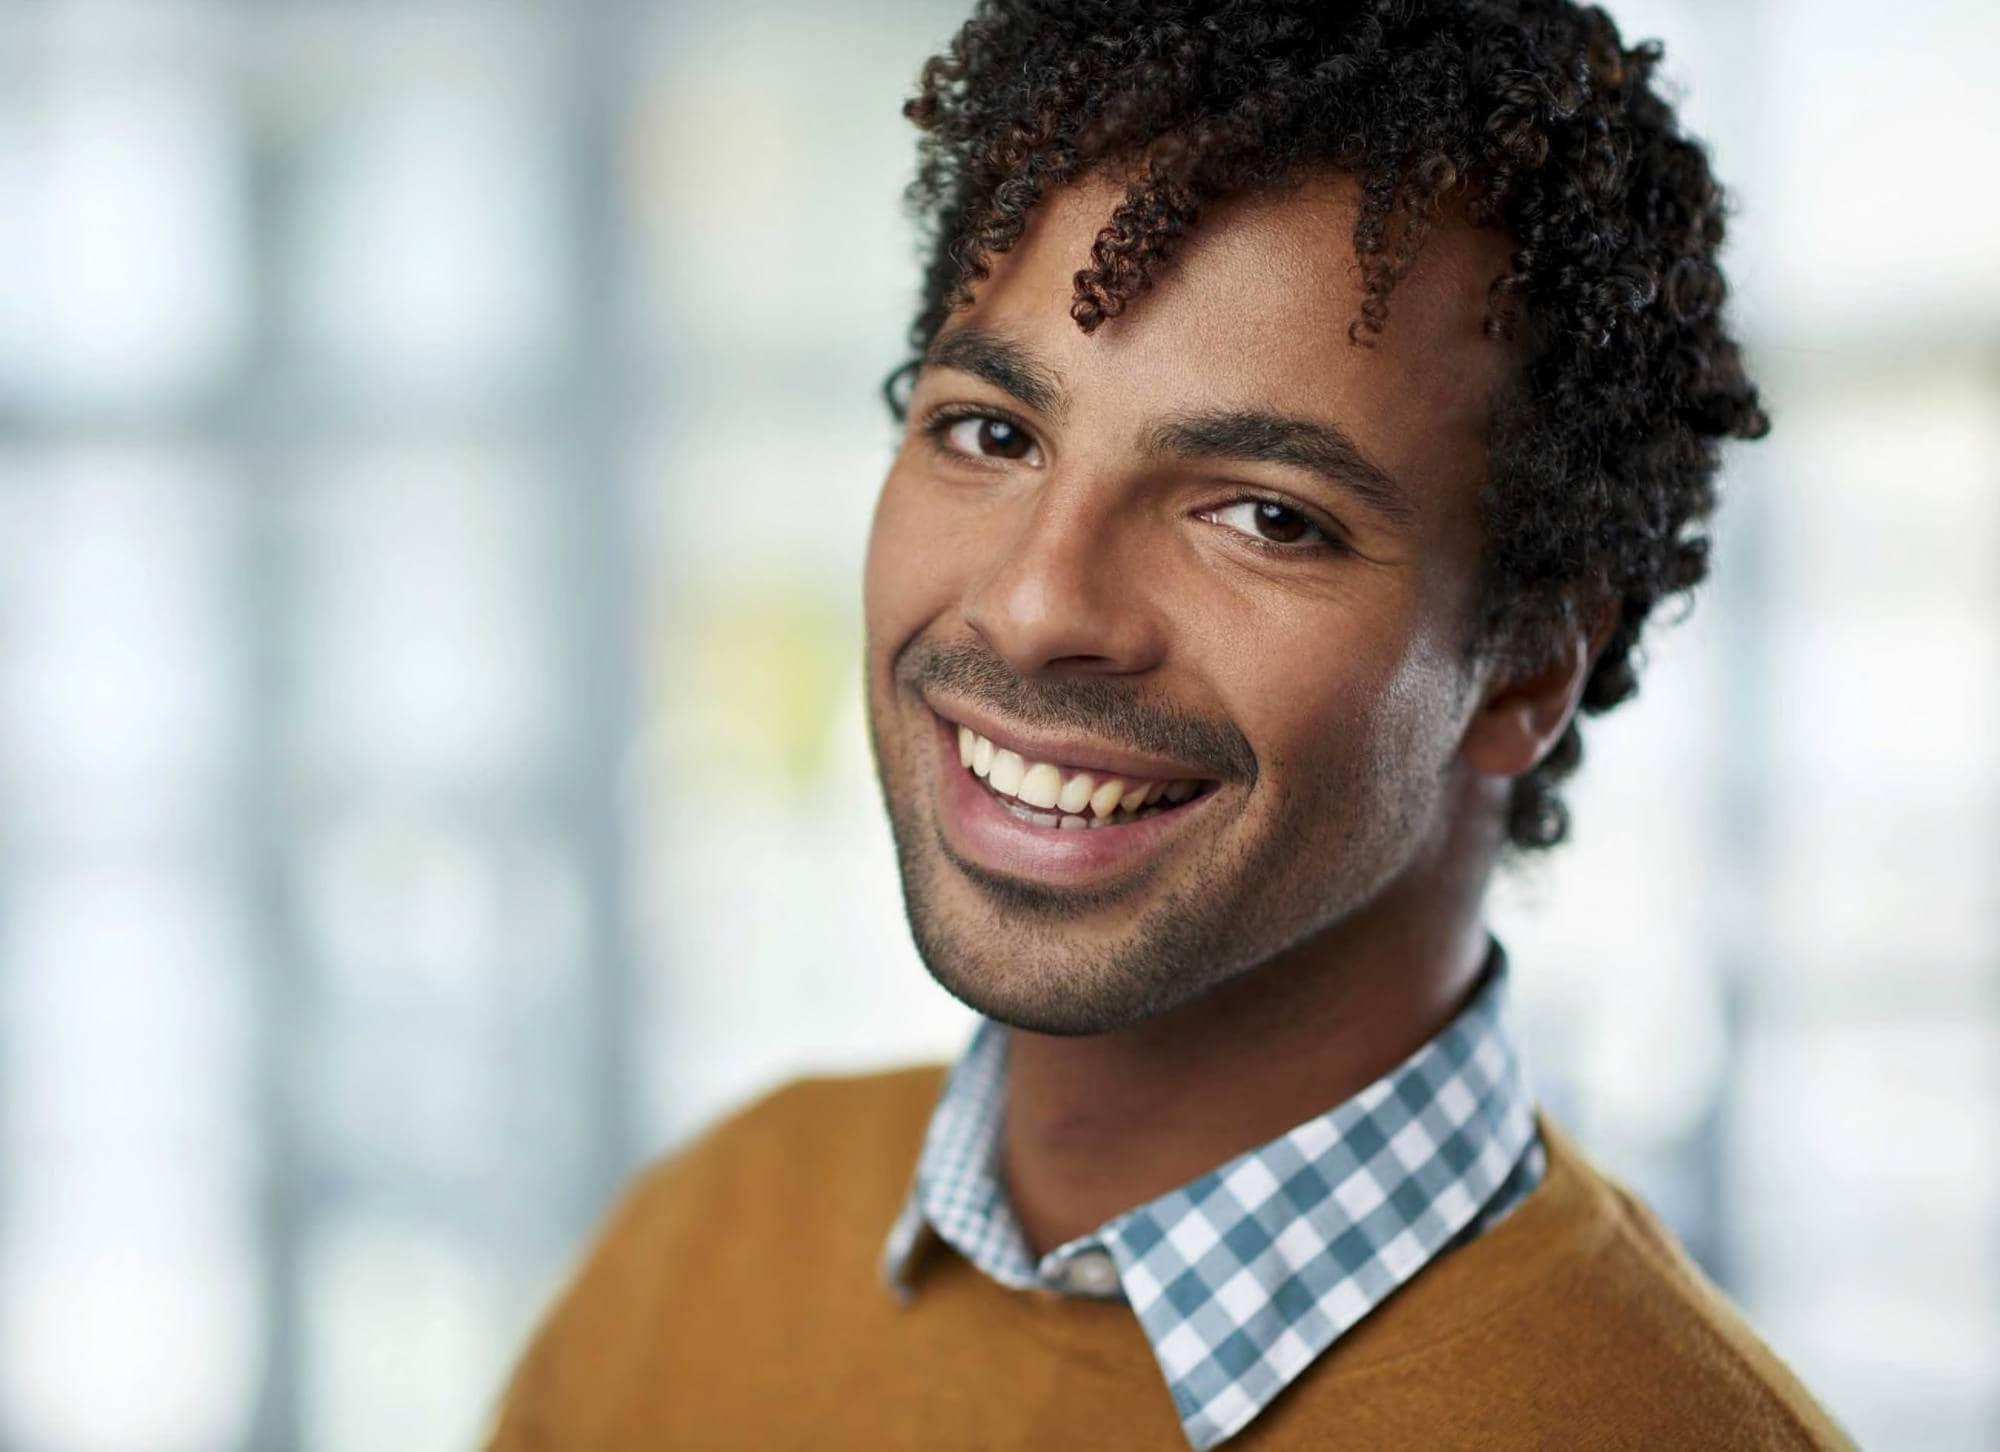Sober: (868, 231, 1484, 1002)
